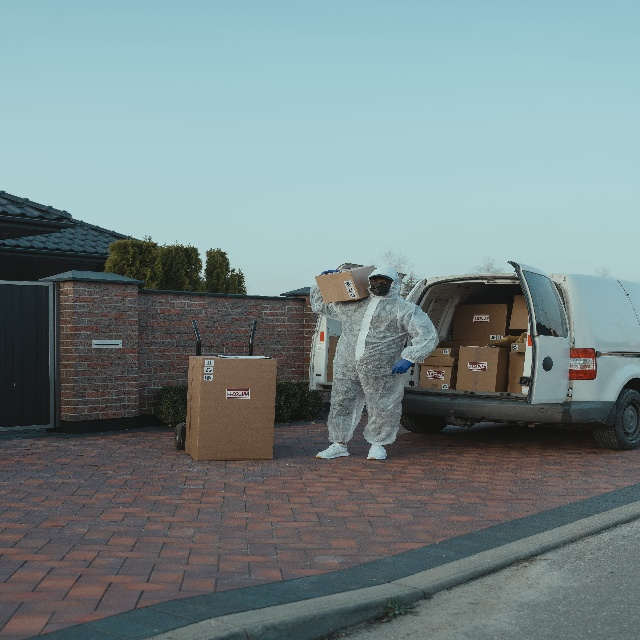Guantes: (391, 358, 412, 376), (319, 268, 340, 276)
Mascara: (369, 281, 391, 296)
